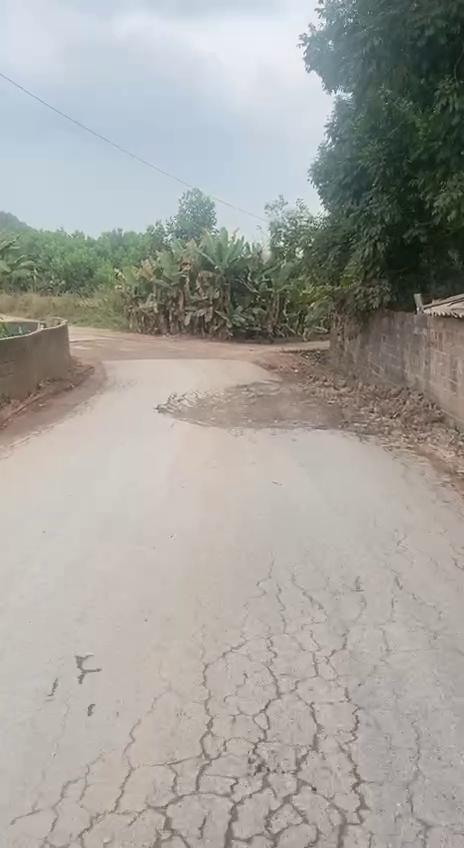pothole: (160, 380, 354, 434)
